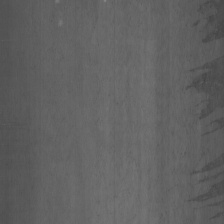water_spot: (183, 12, 222, 208)
